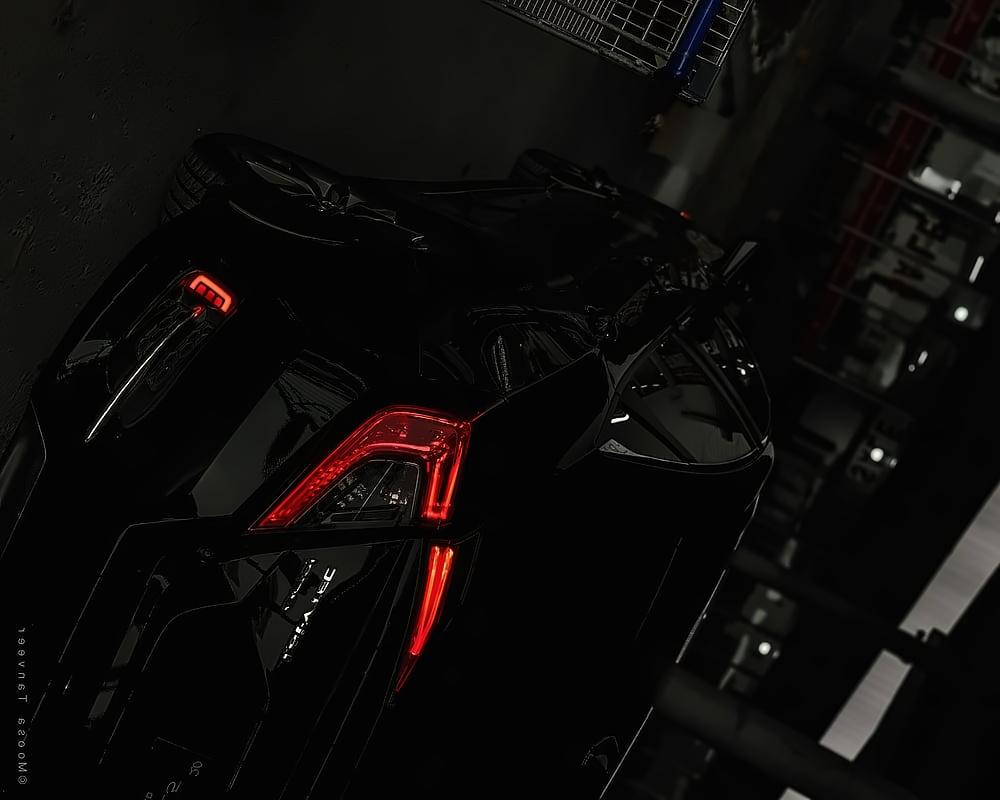Car boot: (0, 253, 436, 800)
Passenger-s door - -R-L-: (343, 144, 761, 470)
Rear bumper: (0, 255, 438, 800)
Rear light - -L-: (250, 406, 478, 702)
Side bumper - -L-: (366, 154, 611, 242)
